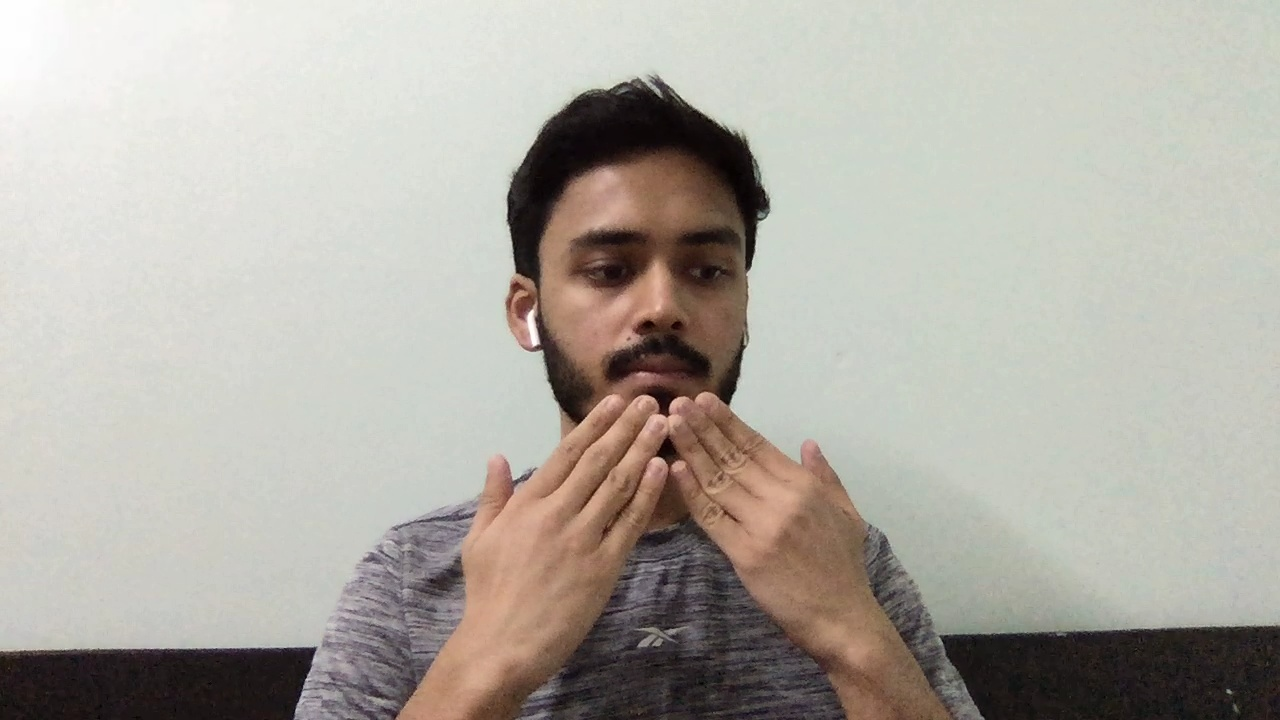Thank You: (446, 386, 926, 666)
